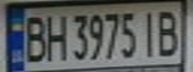3: (66, 10, 87, 61)
5: (118, 8, 139, 59)
7: (103, 9, 121, 60)
9: (87, 10, 106, 61)
B: (154, 6, 184, 57), (21, 11, 48, 63)
H: (42, 11, 69, 62)
I: (136, 7, 160, 57)
